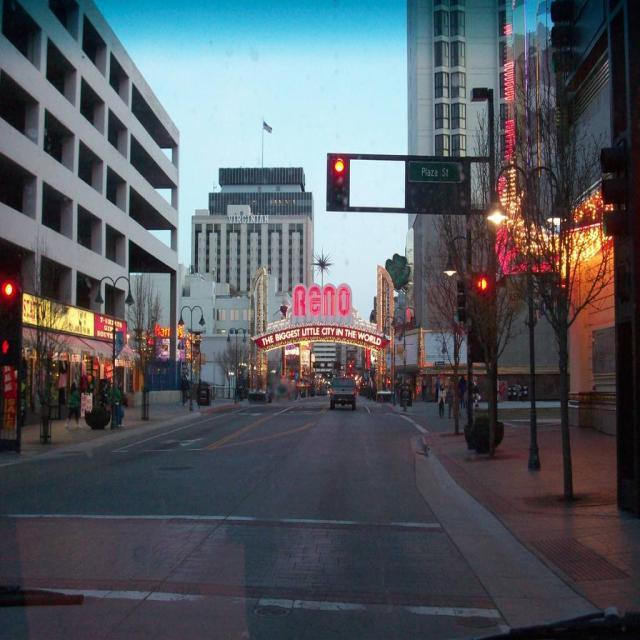off traffic light: (600, 129, 631, 246), (457, 280, 466, 324)
traffic light: (0, 281, 24, 364), (326, 153, 351, 212)
